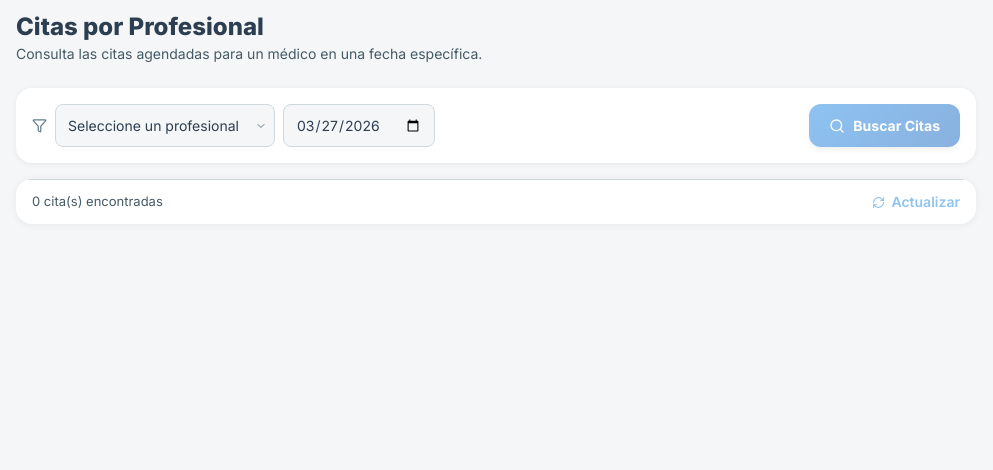
Test: AppointmentsByDoctor — RF1: Listar citas médicas › muestra la tabla con las citas y el contador al seleccionar un profesional
# Esperar a que carguen los profesionales y seleccionar uno
Select "Dr. Andrea Urbano" in the dropdown named "seleccionar profesional" at (165,126), box [55, 104, 275, 147]
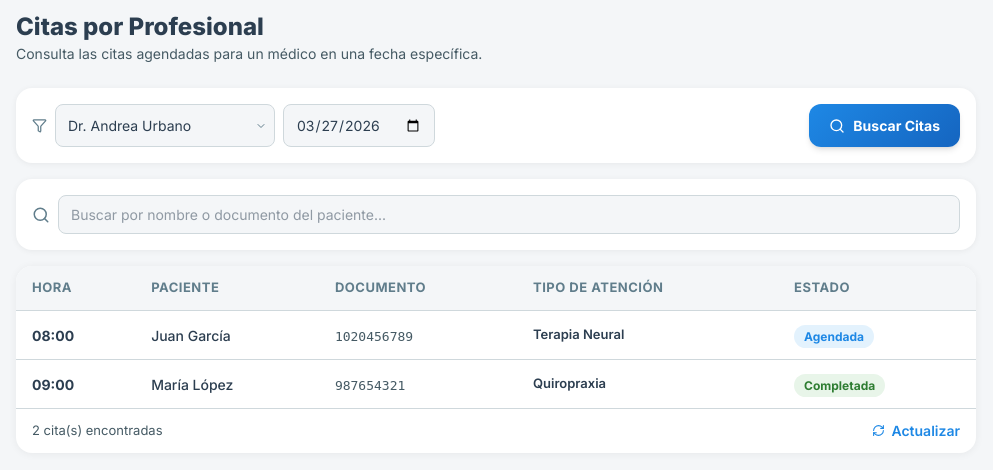
Check: the text "2 cita(s) encontradas" is shown, box [32, 421, 162, 440]
Check: the text "Juan García" is shown, box [151, 326, 231, 344]
Check: the text "María López" is shown, box [151, 376, 233, 392]
